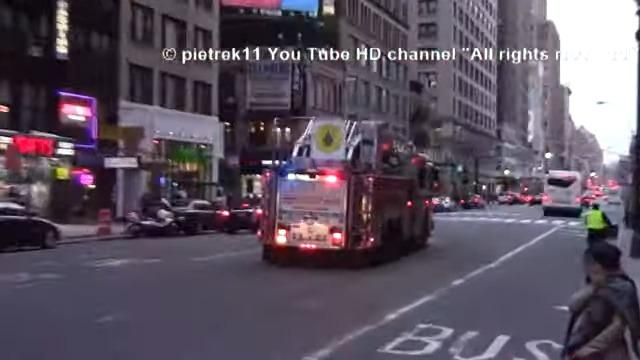Fire-engine: (255, 115, 440, 267)
